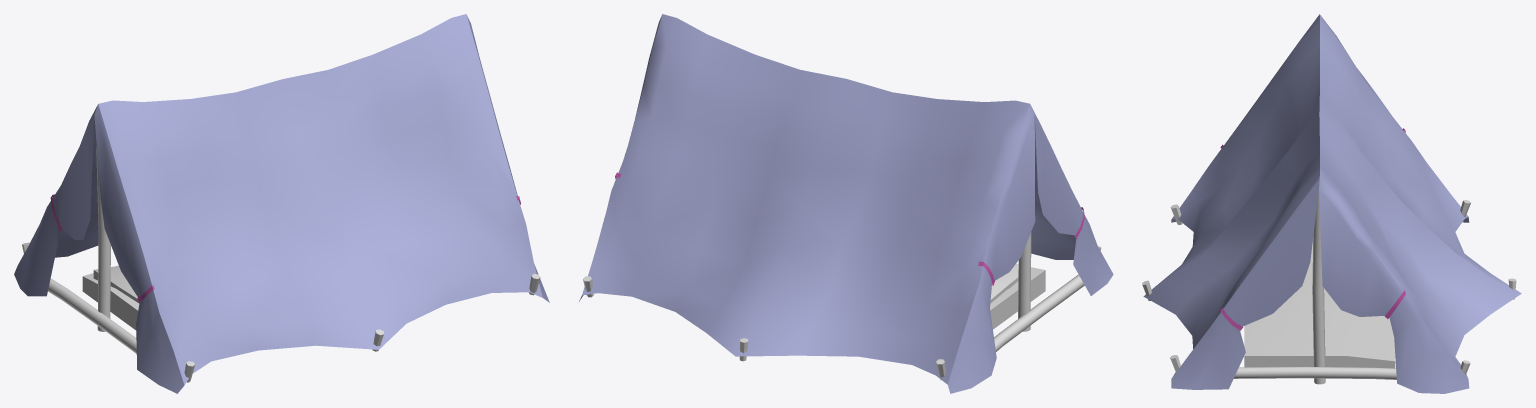
The model's file is Tent2.fbx.
3 renders of one model, left to right at view 1: azimuth 30°, elevation 25°; view 2: azimuth 150°, elevation 25°; view 3: azimuth 270°, elevation 25°, orthographic. The views are drawn at different scales.
Parts seen in each view (by area): view 1: Plane.042, Cylinder.165, Cylinder.163, Plane.045, Cylinder.166, Plane.046; view 2: Plane.042, Cylinder.165, Plane.045, Cylinder.163, Plane.046, Cylinder.166; view 3: Plane.042, Plane.045, Cylinder.164, Cylinder.162, Cylinder.166.
Boxes of the visible parts, x1,y1,x2,y2 form: Plane.042: (14, 14, 549, 393); Cylinder.165: (48, 278, 136, 353); Cylinder.163: (96, 147, 110, 331); Plane.045: (82, 273, 139, 330); Cylinder.166: (22, 242, 540, 382); Plane.046: (93, 265, 139, 303); Plane.042: (579, 14, 1113, 393); Cylinder.165: (994, 274, 1084, 351); Plane.045: (990, 267, 1045, 329); Cylinder.163: (1018, 232, 1031, 331); Plane.046: (990, 263, 1018, 303); Cylinder.166: (583, 246, 1101, 380); Plane.042: (1143, 14, 1521, 393); Plane.045: (1244, 242, 1395, 368); Cylinder.164: (1233, 366, 1396, 379); Cylinder.162: (1312, 191, 1325, 384); Cylinder.166: (1142, 199, 1516, 374).
Size of the model in its own units: 253 by 141 by 228.
